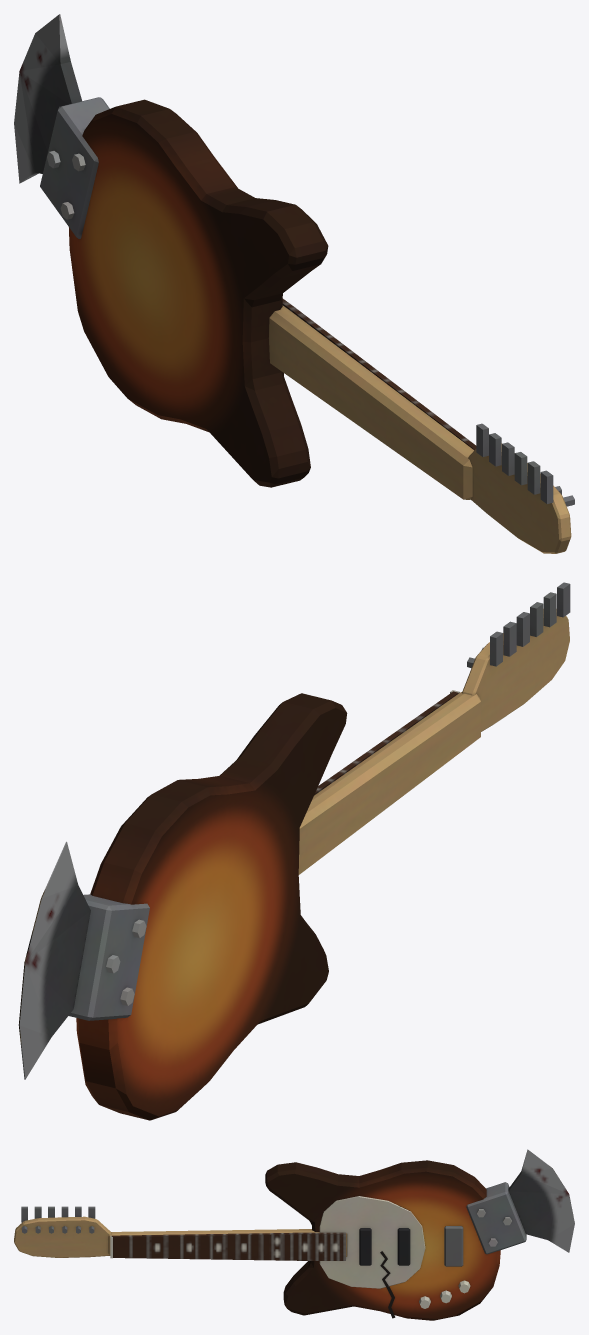
Rendered from AC_LaDesafinada.fbx.
3 renders of one model, top to bottom at view 1: azimuth 30°, elevation 25°; view 2: azimuth 150°, elevation 25°; view 3: azimuth 270°, elevation 25°, orthographic. The views are drawn at different scales.
Parts seen in each view (by area): view 1: AC_LaDesafinada; view 2: AC_LaDesafinada; view 3: AC_LaDesafinada.
Part boxes in pixels (box(x1,y1,x2,y2)): AC_LaDesafinada: box(14, 14, 574, 553); AC_LaDesafinada: box(18, 582, 570, 1120); AC_LaDesafinada: box(14, 1149, 574, 1320).
Bounding box in the file's own units: 0.0447 × 0.7 × 0.2311.
